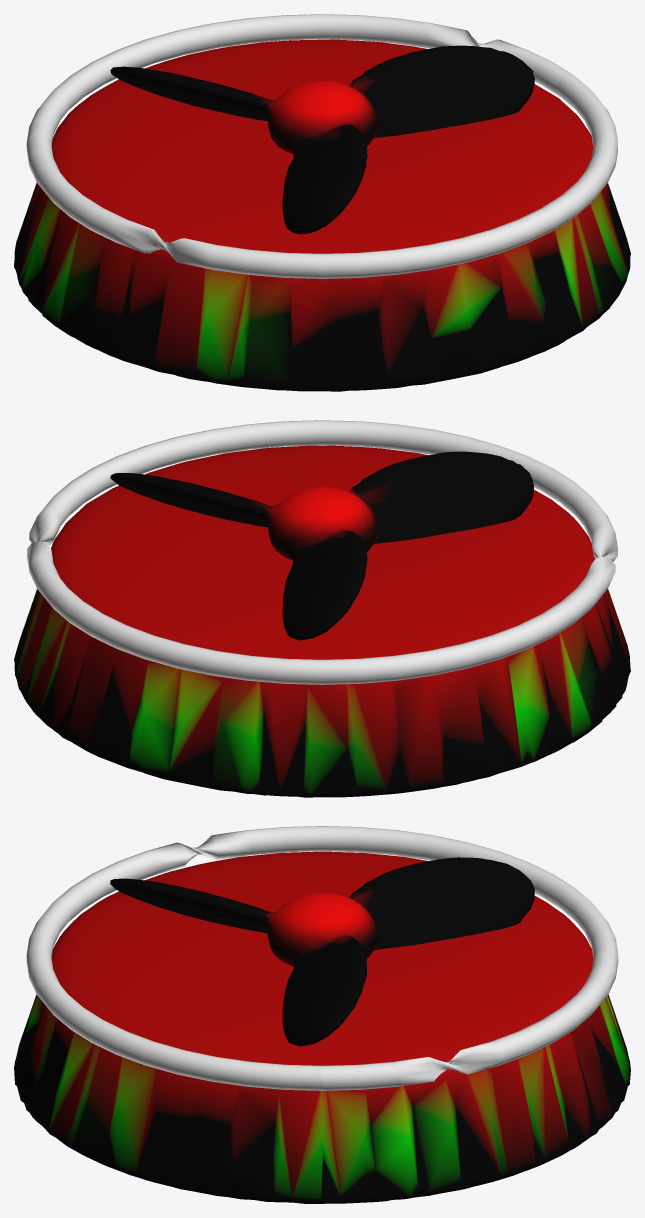
File: prop-fan.glb
The picture shows the model from 3 angles, top to bottom: view 1: azimuth 30°, elevation 25°; view 2: azimuth 150°, elevation 25°; view 3: azimuth 270°, elevation 25°; orthographic projection.
Visible parts, largest first — view 1: fanBase, guard, bladesMesh; view 2: fanBase, guard, bladesMesh; view 3: fanBase, guard, bladesMesh.
Part boxes in pixels (x1,y1,x2,y2): fanBase: (14, 39, 630, 391); guard: (26, 14, 617, 278); bladesMesh: (110, 45, 534, 234); fanBase: (14, 445, 630, 797); guard: (27, 420, 617, 684); bladesMesh: (110, 451, 533, 640); fanBase: (14, 851, 630, 1203); guard: (26, 826, 618, 1090); bladesMesh: (110, 857, 534, 1046).
Bounding box in the file's own units: 3.37 × 1.07 × 3.37.
